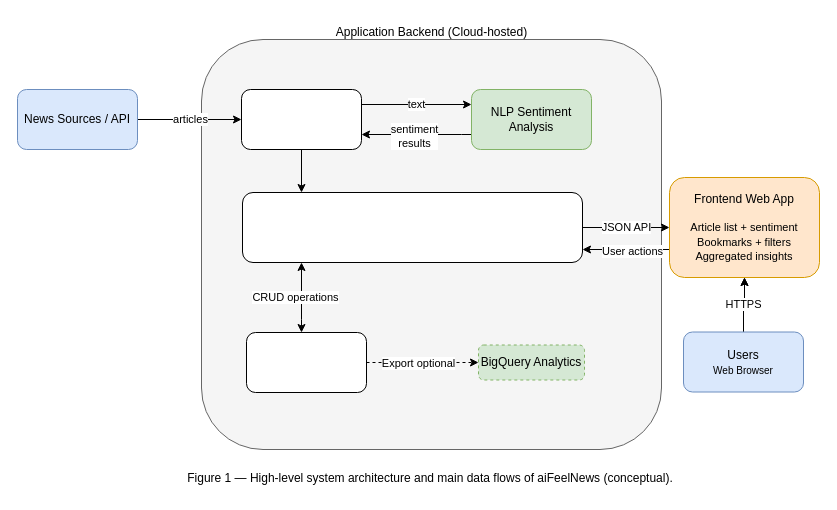
The diagram is 837 pixels wide and 510 high, and some of its shapes have lost their labels. The centre of each missing label's shape, as x and y in pixels:
"Backend API Auth + Article Retrieval Filtering + Aggregations" goes at [412,227].
"Ingestion Fetch + Normalize" goes at [301,119].
"Relational Database (PostgreSQL)" goes at [306,362].
